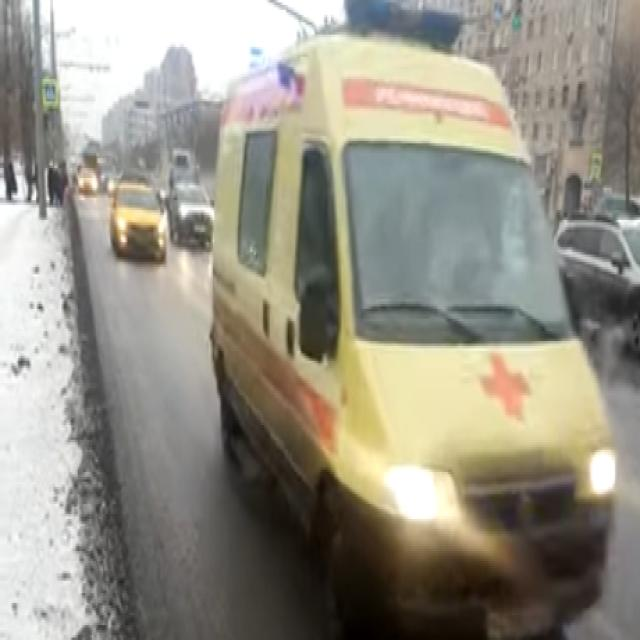intensive care unit: (215, 0, 618, 638)
non emergency car: (552, 204, 638, 352), (108, 180, 166, 267), (168, 174, 214, 256), (75, 163, 100, 198)
